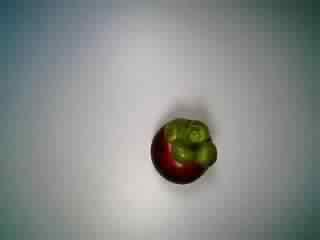mangosteen: (142, 114, 221, 192)
